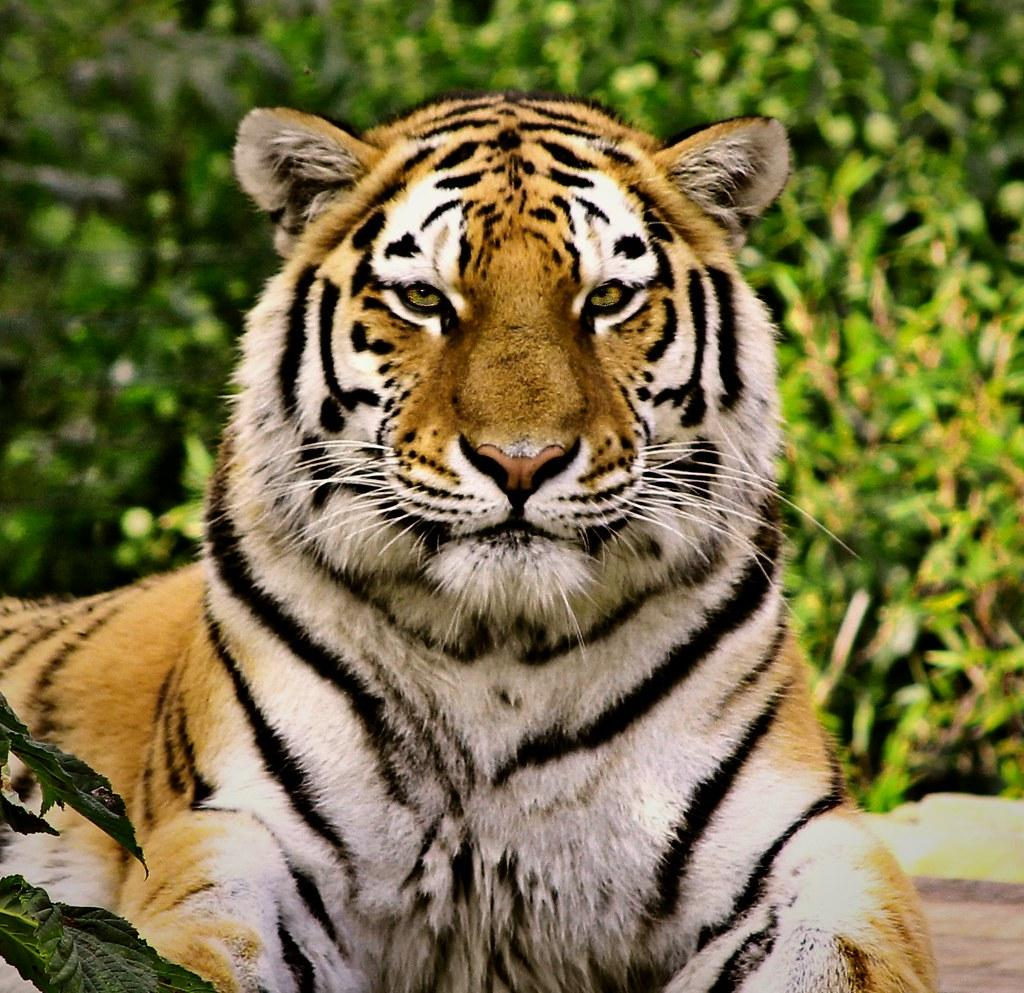tiger: (2, 87, 938, 991)
